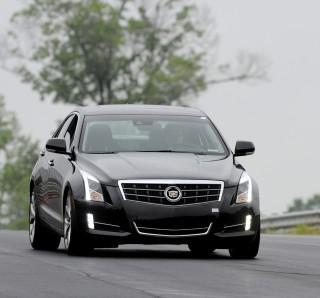cadillac: (162, 182, 183, 204)
